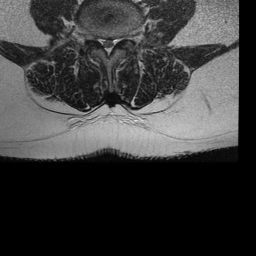CCS_normal: (105, 31, 112, 64)
LFS_severe_stenosis: (119, 27, 126, 48)
LLS_stenosis: (111, 29, 119, 56)
RFS_severe_stenosis: (90, 26, 97, 48)
RLS_stenosis: (97, 29, 104, 54)
